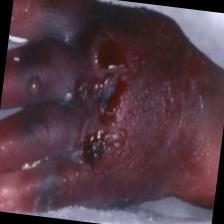extravasation-wound: (54, 27, 142, 197)
